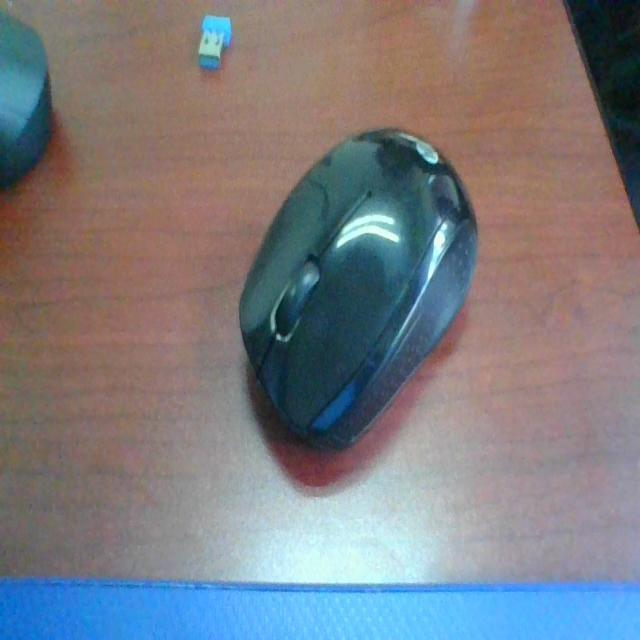Mouse: (232, 122, 496, 438)
